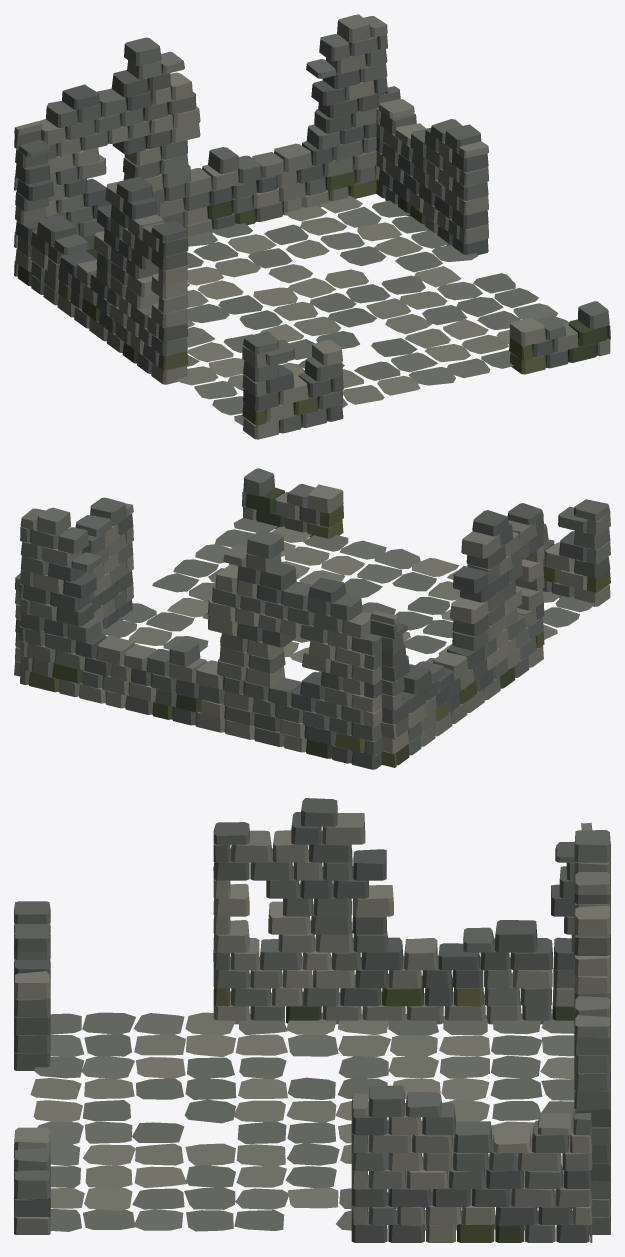
File: fallen-keep-chapel.glb
3 renders of one model, top to bottom at view 1: azimuth 30°, elevation 25°; view 2: azimuth 150°, elevation 25°; view 3: azimuth 270°, elevation 25°, orthographic. The views are drawn at different scales.
Parts seen in each view (by area): view 1: FallenKeep_Roofless_chapel; view 2: FallenKeep_Roofless_chapel; view 3: FallenKeep_Roofless_chapel.
Part boxes in pixels (x1,y1,x2,y2): FallenKeep_Roofless_chapel: [14, 14, 610, 439]; FallenKeep_Roofless_chapel: [14, 468, 610, 769]; FallenKeep_Roofless_chapel: [14, 798, 610, 1242].
Bounding box in the file's own units: 12.85 × 6.42 × 13.85.
